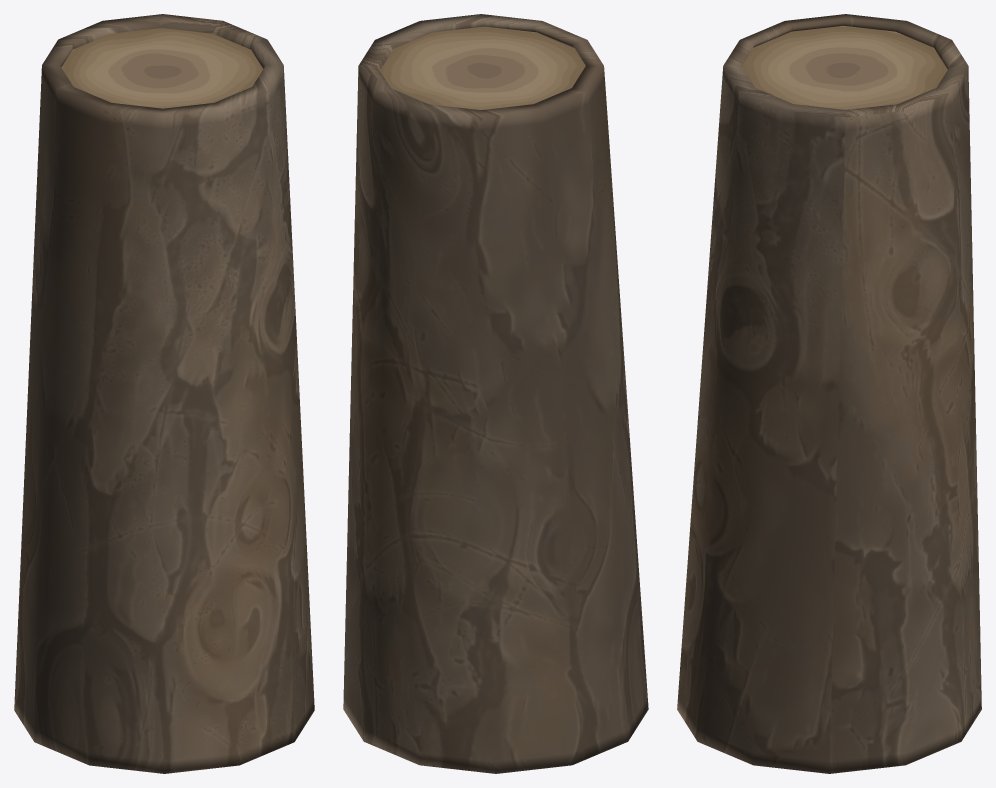
The model's file is tree02_log_small.fbx.
The picture shows the model from 3 angles, left to right: view 1: azimuth 30°, elevation 25°; view 2: azimuth 150°, elevation 25°; view 3: azimuth 270°, elevation 25°; orthographic projection.
Parts seen in each view (by area): view 1: Cylinder.010; view 2: Cylinder.010; view 3: Cylinder.010.
Boxes of the visible parts, <box> form: Cylinder.010: <box>14,14,314,773</box>; Cylinder.010: <box>343,14,648,773</box>; Cylinder.010: <box>677,14,981,773</box>.
Size of the model in its own units: 32.02 by 75 by 32.02.
